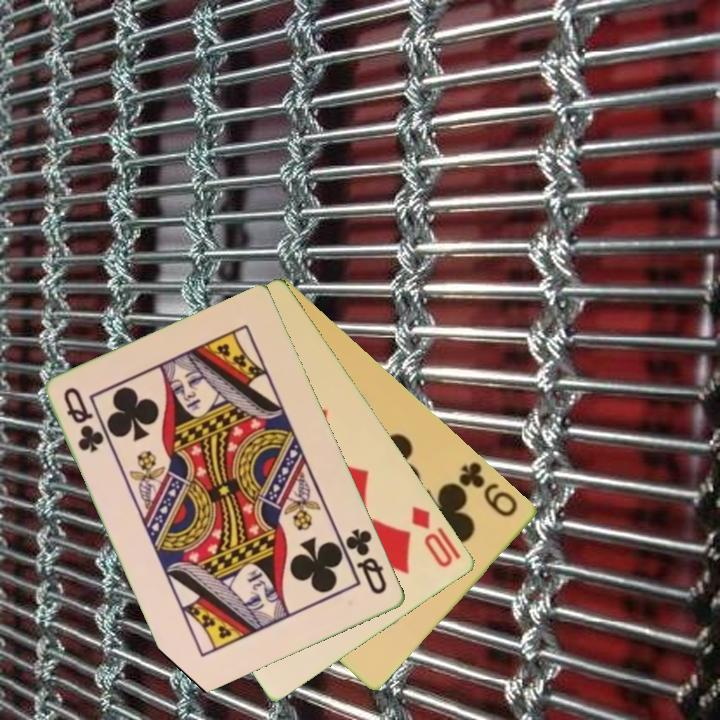10d: (408, 502, 456, 571)
9c: (455, 458, 521, 520)
Qc: (342, 525, 391, 598), (60, 383, 108, 456)
